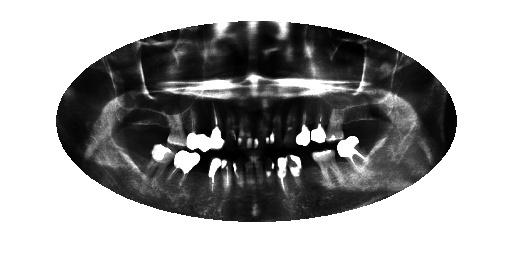i10decay: (231, 153, 246, 196)
i11healthy: (218, 153, 233, 199)
i12healthy: (206, 152, 225, 199)
i13loss: (187, 147, 214, 200)
i14healthy: (165, 147, 202, 198)
i15healthy: (142, 140, 177, 186)
i2healthy: (335, 133, 371, 178)
i3healthy: (309, 143, 345, 189)
i4loss: (294, 149, 322, 191)
i5healthy: (284, 146, 306, 195)
i6healthy: (273, 151, 291, 199)
i7decay: (261, 149, 278, 197)
i8decay: (251, 151, 265, 198)
i9decay: (241, 150, 257, 201)
u10decay: (221, 98, 240, 154)
u11healthy: (207, 97, 224, 153)
u12healthy: (183, 98, 211, 154)
u13healthy: (163, 106, 188, 151)
u3healthy: (321, 101, 348, 144)
u4healthy: (307, 99, 327, 145)
u5healthy: (291, 97, 313, 147)
u6healthy: (280, 97, 299, 149)
u7decay: (267, 93, 284, 149)
u8healthy: (252, 101, 270, 152)
u9healthy: (237, 95, 255, 152)
